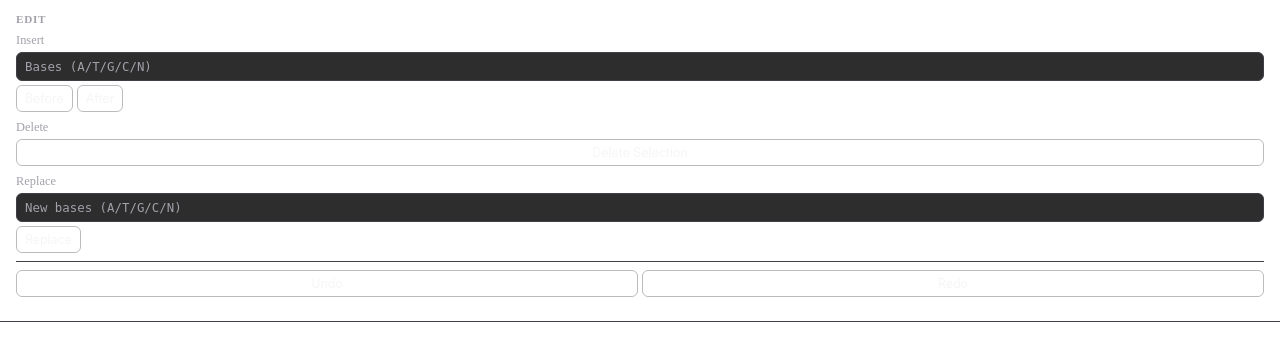
Scenario: EditPanel › shows validation error for invalid bases
Type "XYZ" into the field with placeholder "Bases (A/T/G/C/N)" at [640, 66], box [16,52,1264,81]
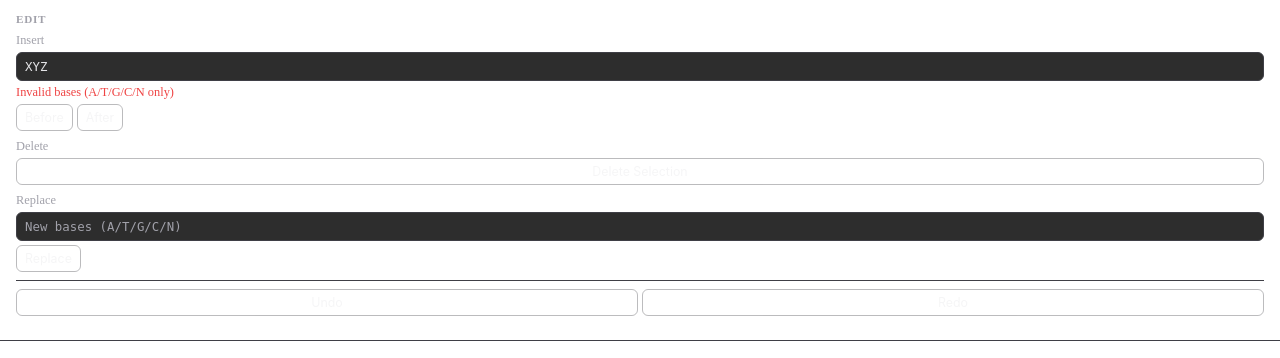
Now the text "Invalid bases (A/T/G/C/N only)" is shown, box [16,85,174,99]
